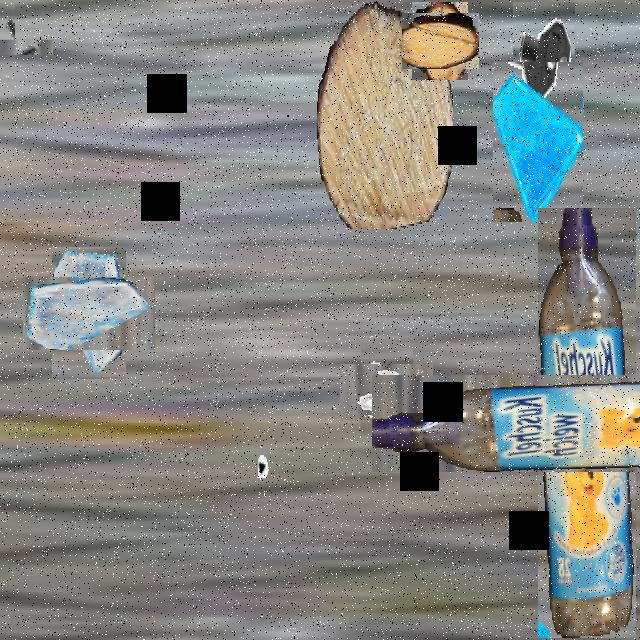glass: (493, 62, 583, 222), (38, 262, 140, 364)
metal: (258, 423, 320, 533), (513, 2, 575, 112), (351, 353, 423, 426), (0, 21, 34, 74)
plastic: (455, 291, 640, 555)
wood: (317, 2, 453, 229), (406, 7, 474, 74)
